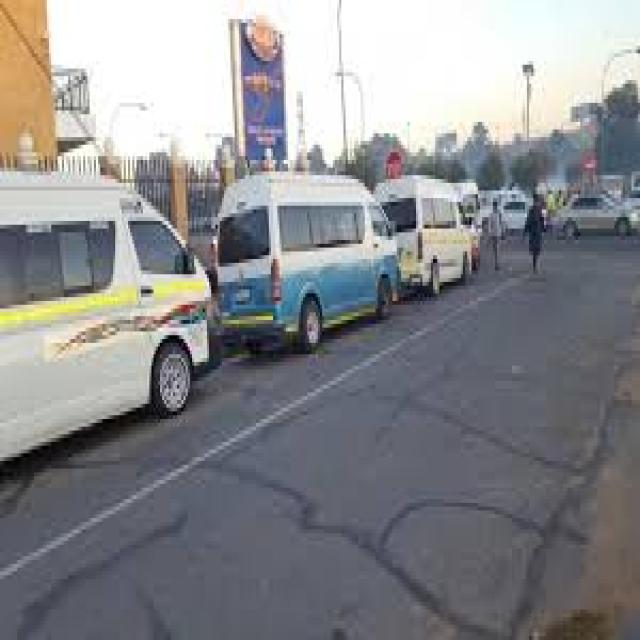MiniBus taxi: (2, 179, 213, 457), (218, 172, 408, 358), (375, 156, 476, 301)
